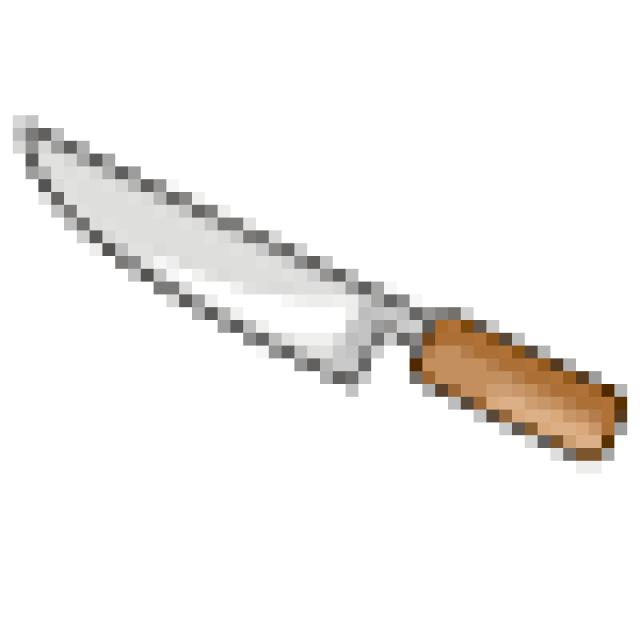knife: (5, 98, 631, 499)
